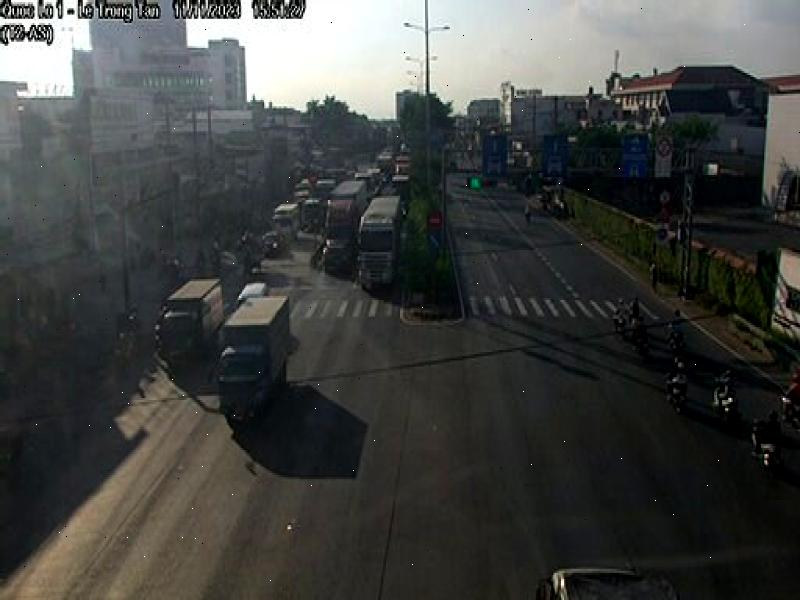truck: (219, 294, 294, 423), (159, 276, 225, 369), (358, 196, 406, 291), (322, 178, 366, 278)
